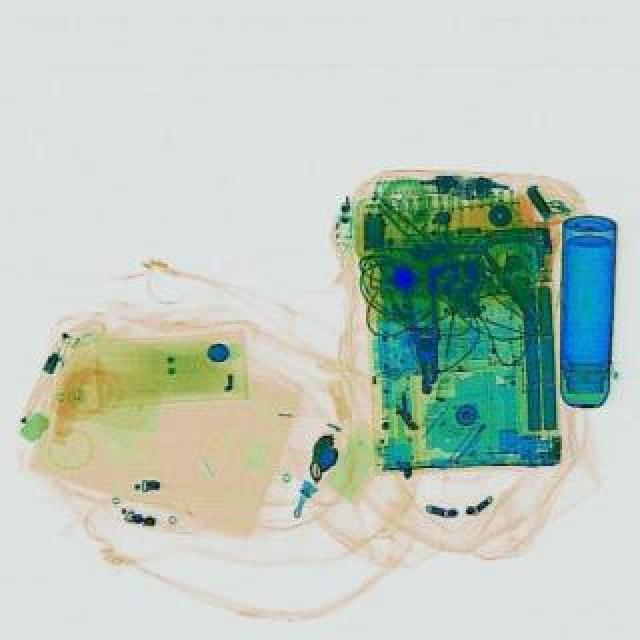wrench: (396, 262, 444, 384)
